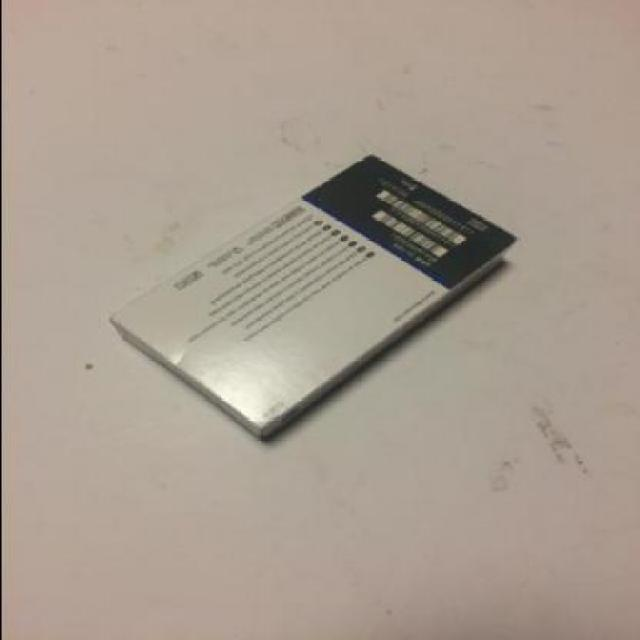box: (106, 154, 512, 438)
